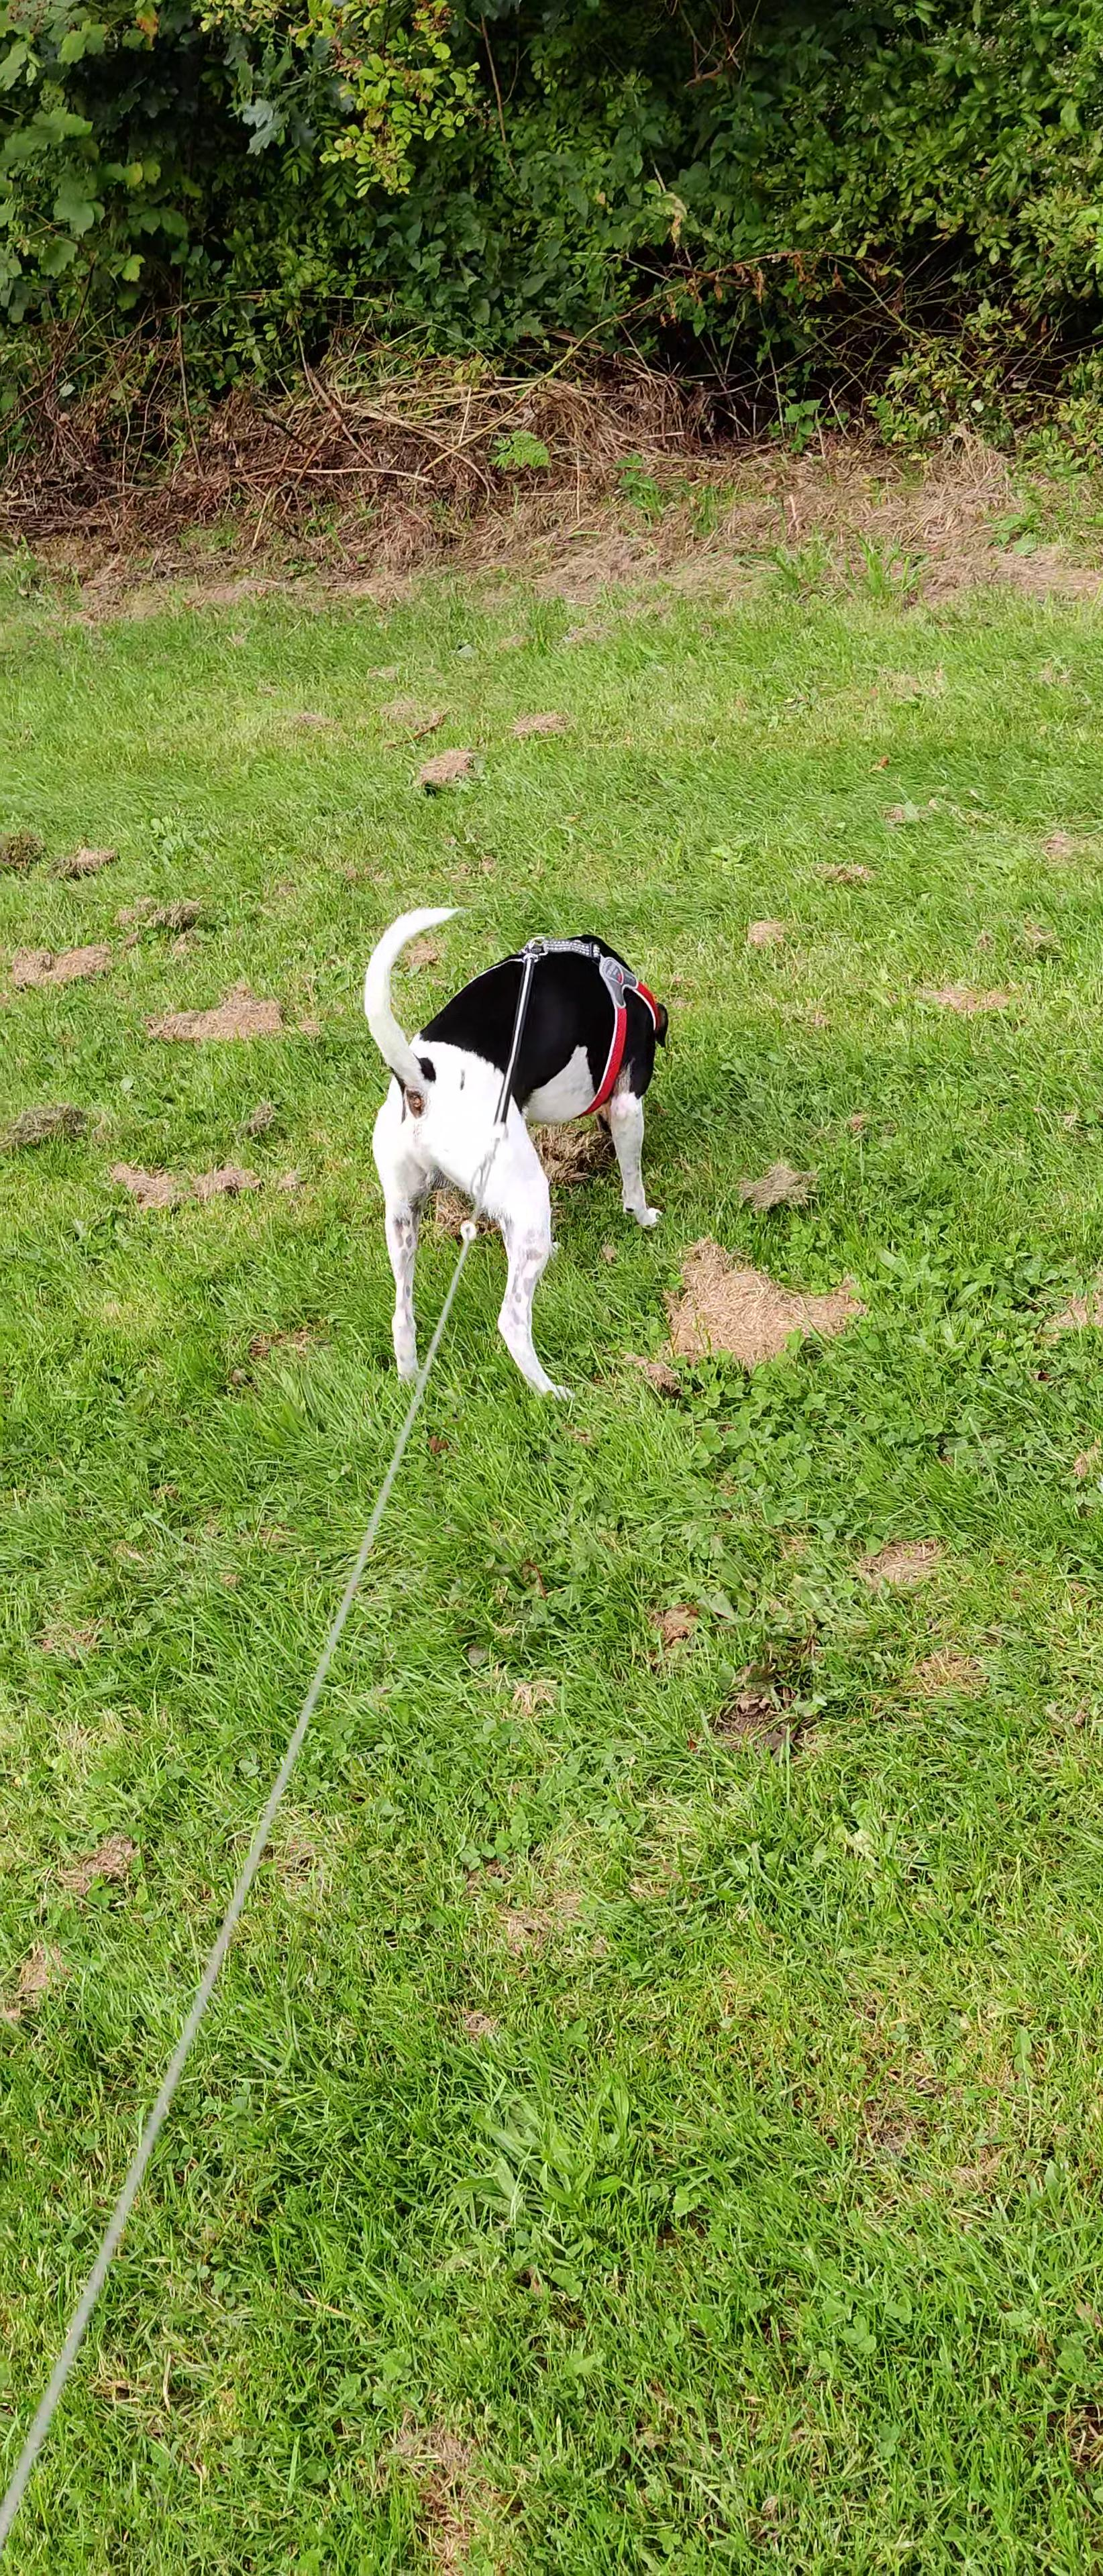Dog: (355, 897, 676, 1403)
